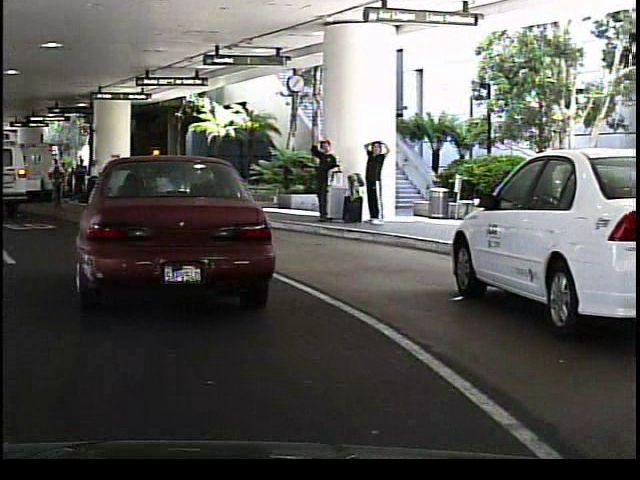person: (306, 134, 338, 221), (358, 135, 388, 227), (338, 150, 359, 219), (192, 152, 216, 205)
